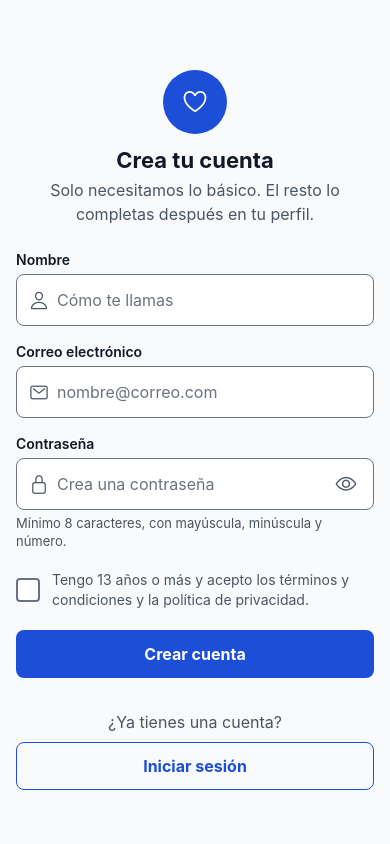
Scenario: RegisterScreen › borra el error de un campo cuando el usuario lo corrige
The width and height of the screenshot is (390, 844).
Click the button "Crear cuenta": (195, 654) [16,630,374,678]
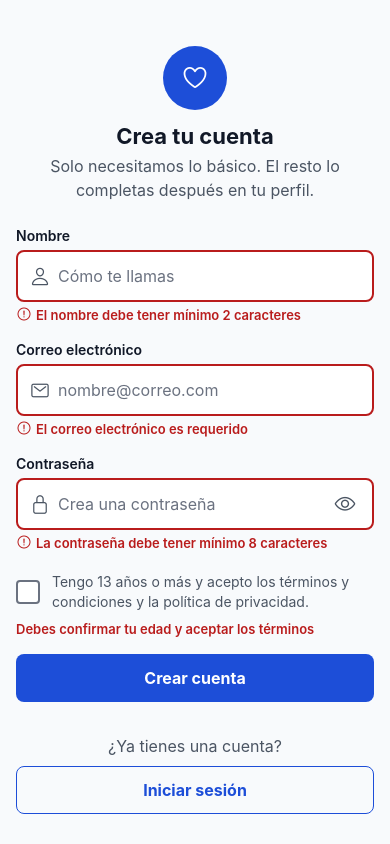
Expected: the text "El correo electrónico es requerido" is shown, [36,420,248,438]
In the field named "Correo electrónico": (209, 390) [58,368,360,412], type "ana@test.com"
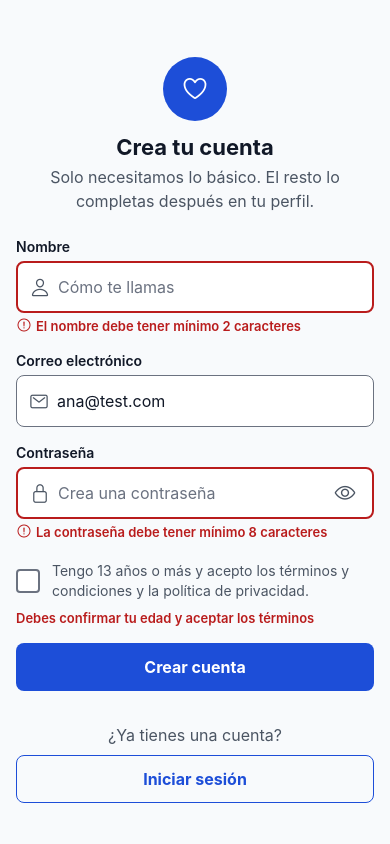
Expected: the text "El correo electrónico es requerido" is gone
